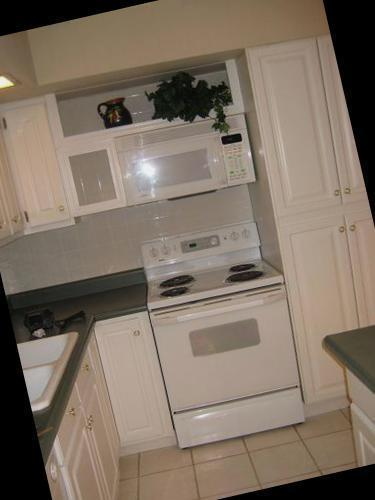Lavaplatos: (15, 319, 98, 417)
